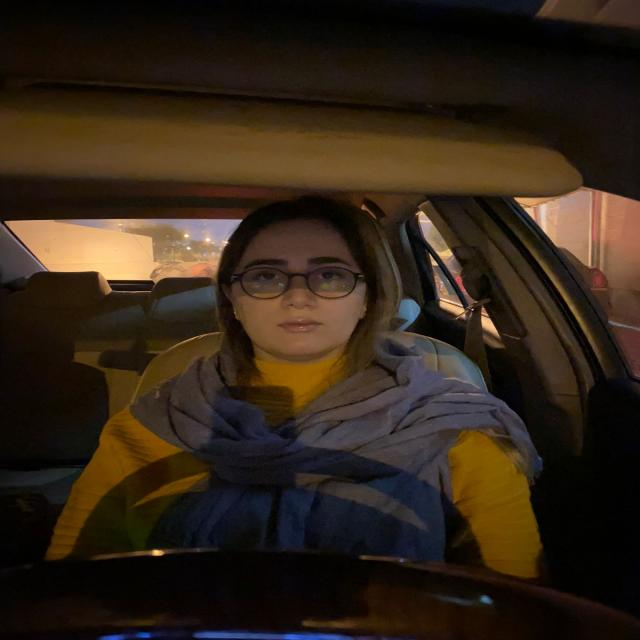person: (230, 202, 390, 361)
